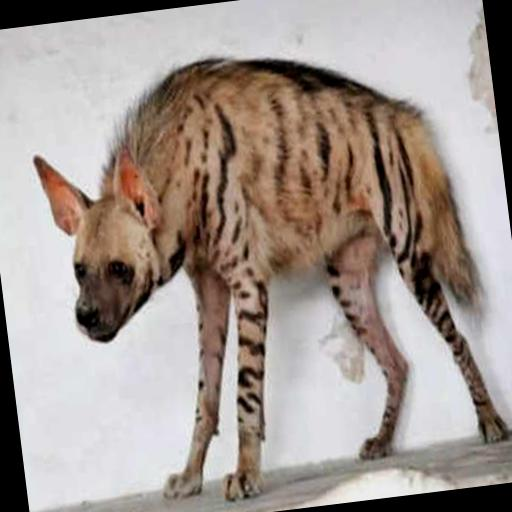hyenas: (32, 11, 512, 505)
